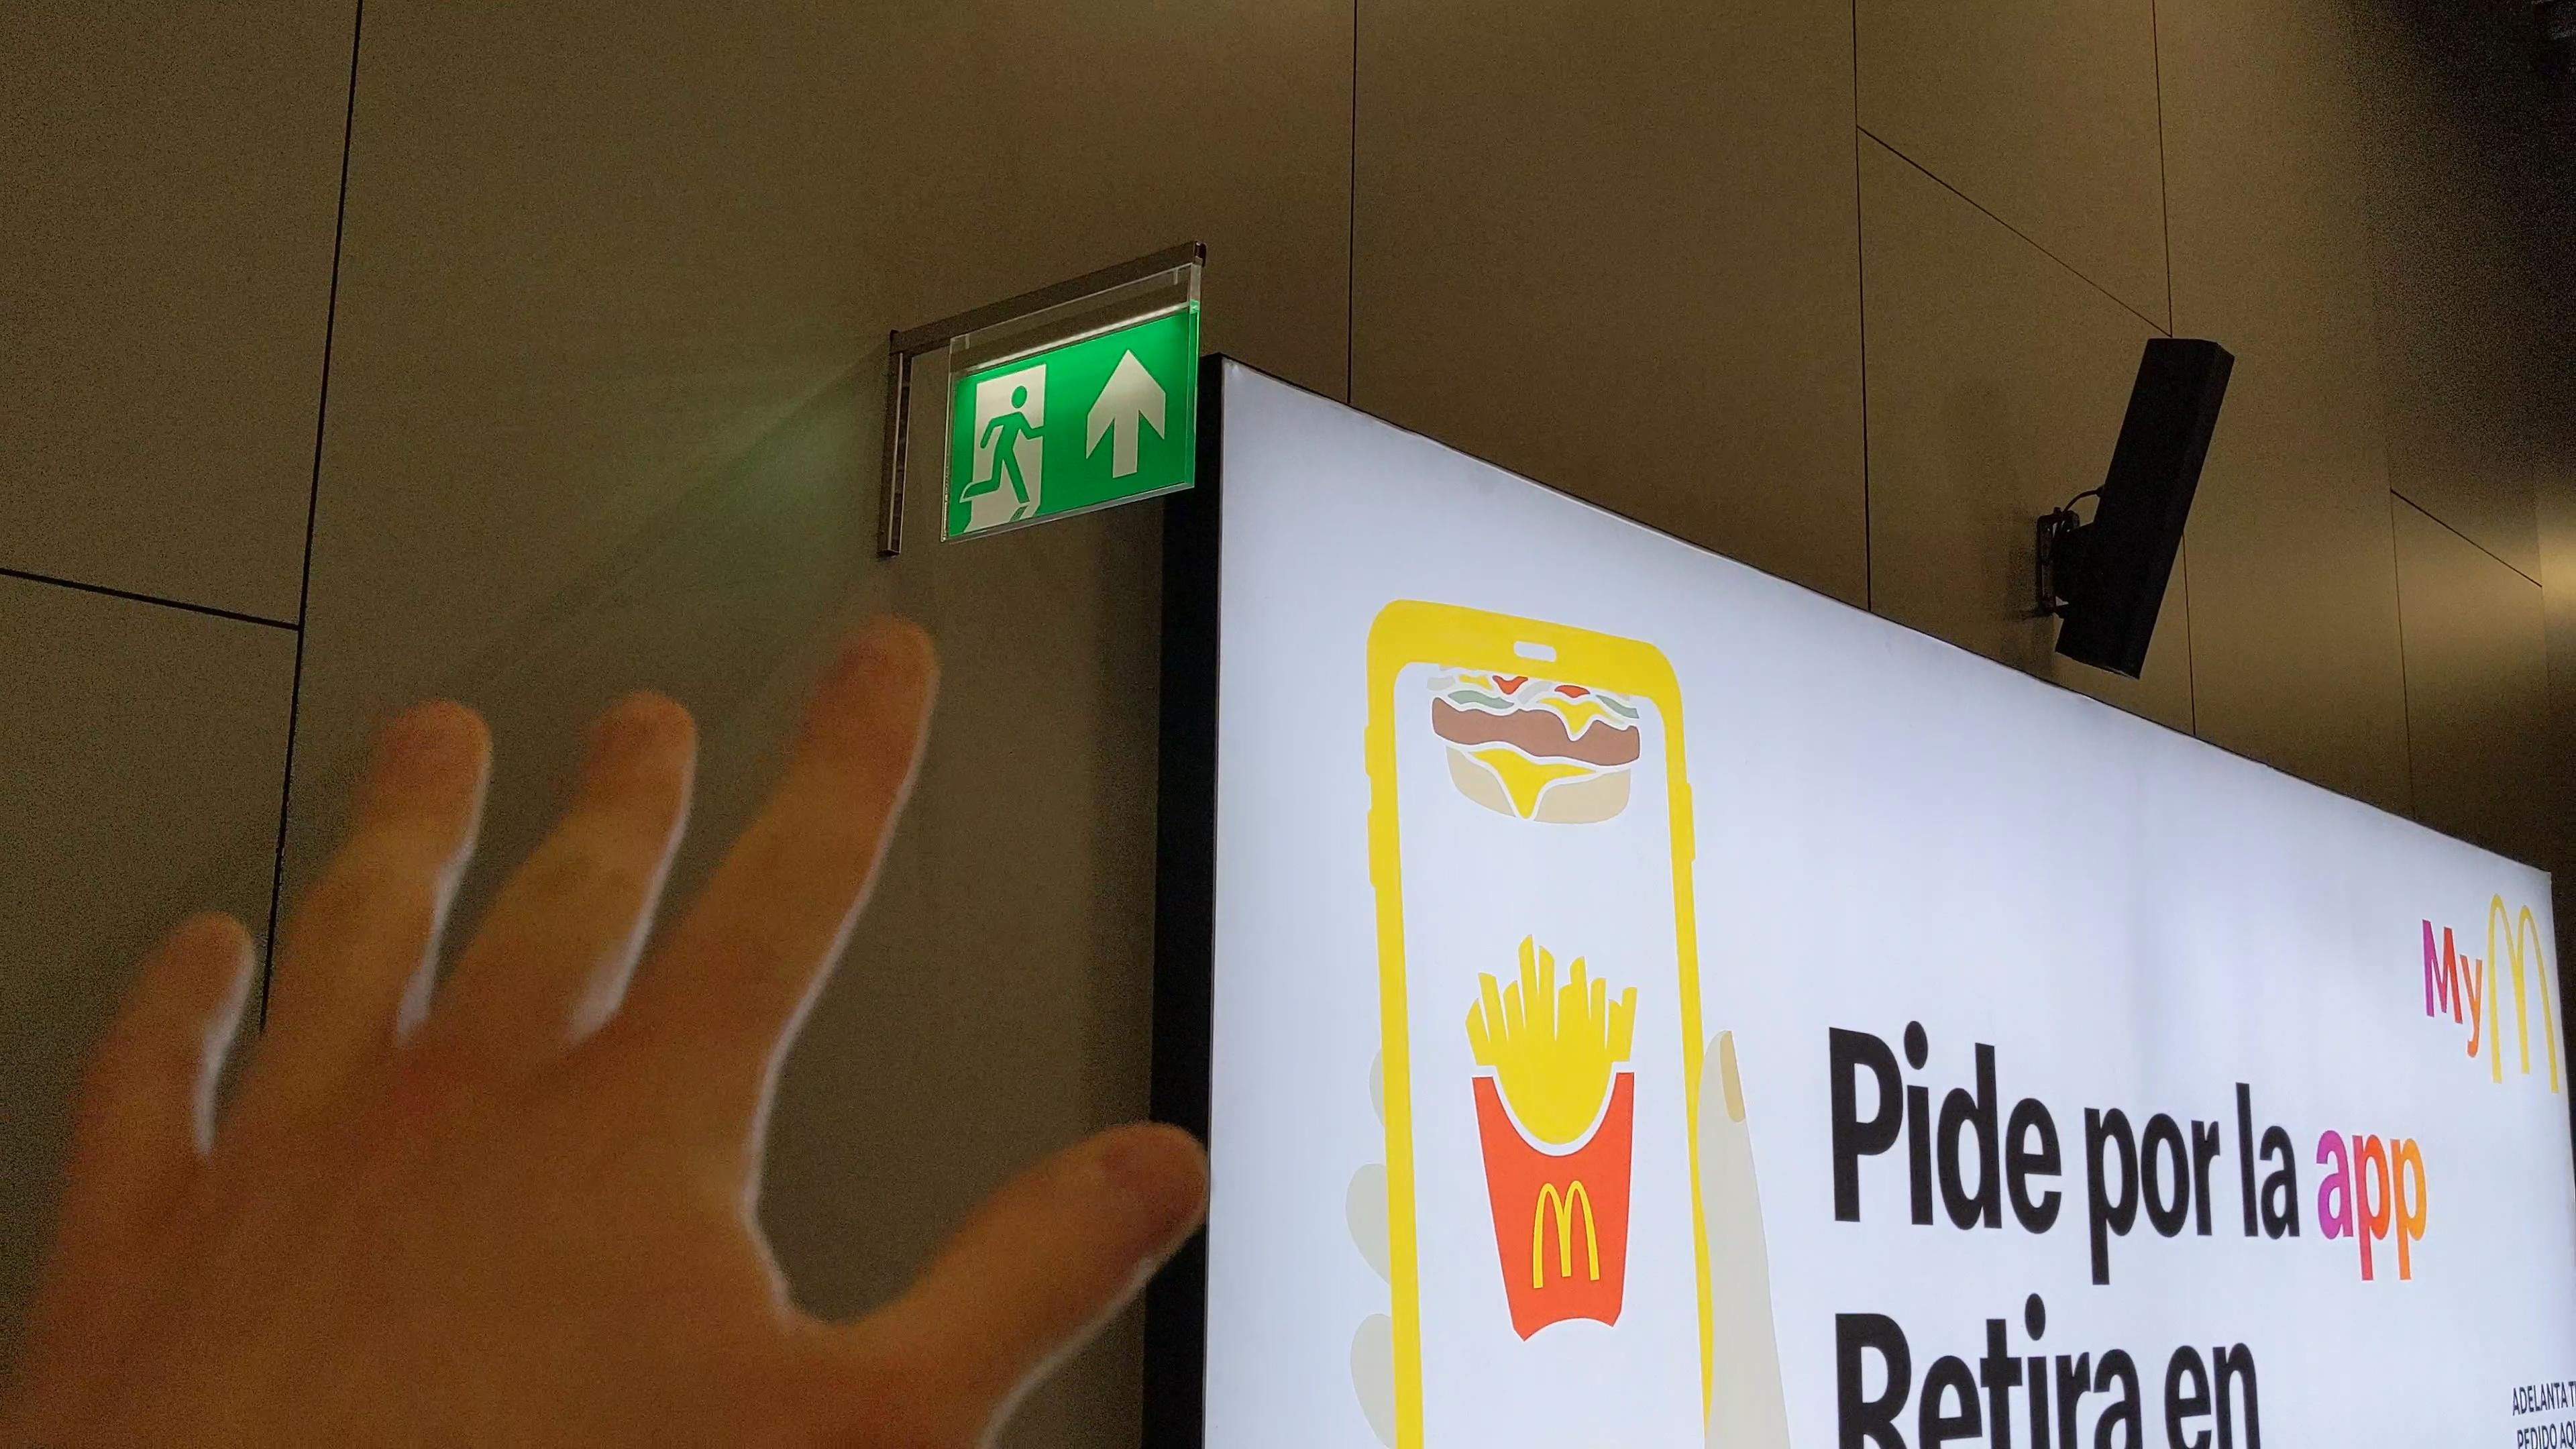emergency exit: (961, 372, 1047, 524)
emergency up arrow: (1081, 347, 1173, 481)
